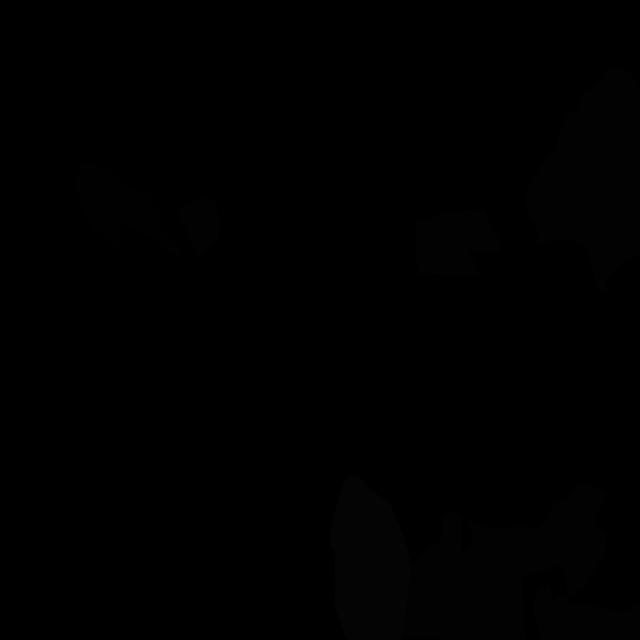cardboard: (526, 65, 640, 293), (463, 484, 608, 595), (402, 511, 526, 640), (532, 584, 640, 640), (414, 209, 502, 277), (175, 197, 220, 258)
rigid_plastic: (74, 161, 183, 257)
soft_plastic: (330, 476, 412, 640)
